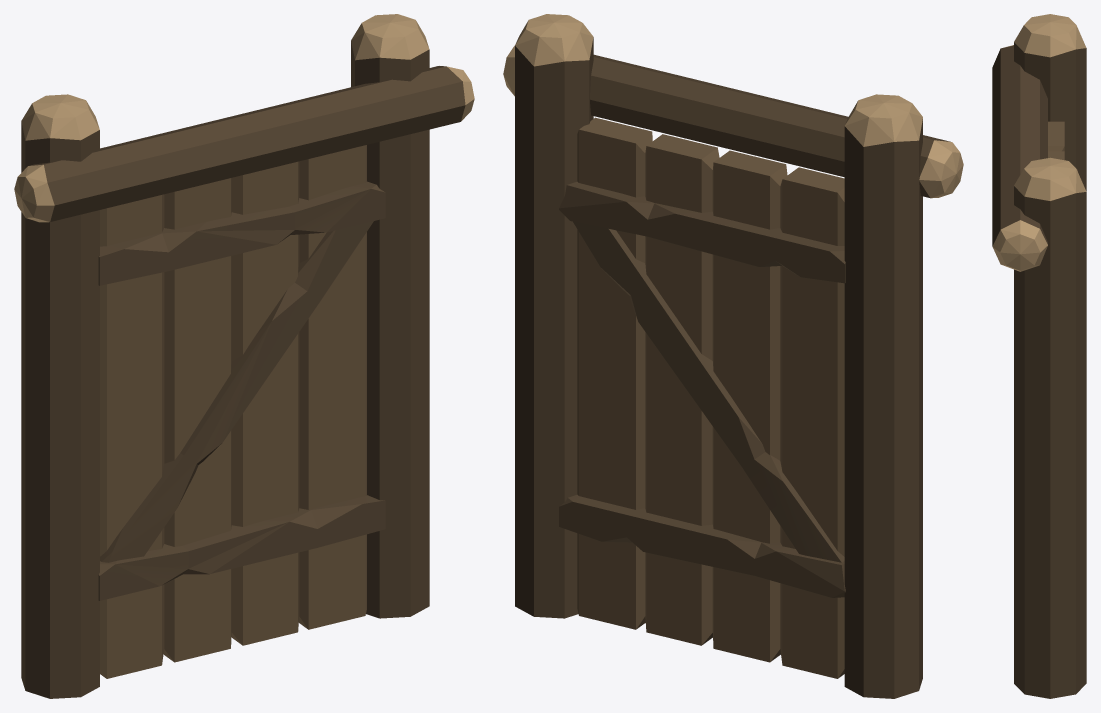
The model's file is Puerta.glb.
3 views of the same model, side by side, from view 1: azimuth 30°, elevation 25°; view 2: azimuth 150°, elevation 25°; view 3: azimuth 270°, elevation 25° (orthographic). The views are drawn at different scales.
Visible parts, largest first — view 1: SM_Bld_Door_01; view 2: SM_Bld_Door_01; view 3: SM_Bld_Door_01.
Part boxes in pixels (left/top/right/bottom): SM_Bld_Door_01: left=14, top=14, right=474, bottom=698; SM_Bld_Door_01: left=503, top=14, right=963, bottom=698; SM_Bld_Door_01: left=992, top=14, right=1086, bottom=698.
Size of the model in its own units: 1.91 by 2.38 by 0.3916.
Materials: 1 (1 with a texture image).
